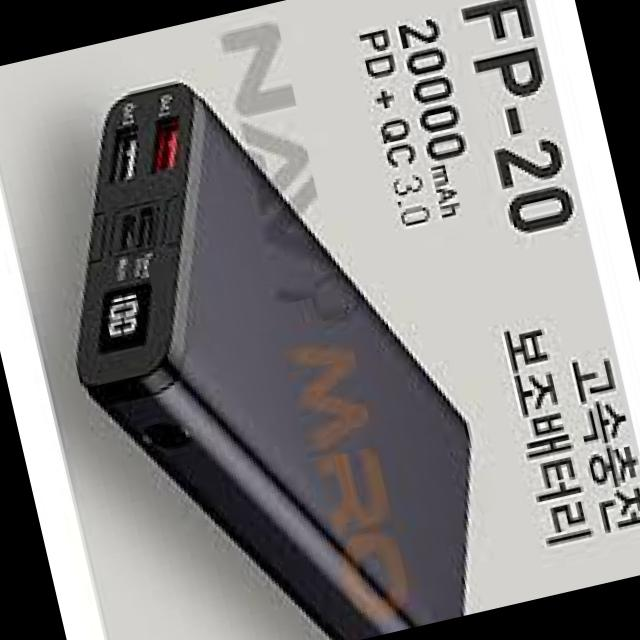power_bank: (16, 29, 509, 640)
